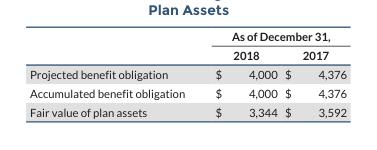table: (28, 29, 346, 118)
table column: (28, 29, 199, 118), (199, 29, 280, 118), (280, 29, 346, 118)
table column header: (28, 29, 346, 64)
table row: (28, 45, 346, 64), (28, 64, 346, 83), (28, 83, 346, 102), (28, 29, 346, 45), (28, 102, 346, 118)
table spanning cell: (199, 29, 346, 45)
